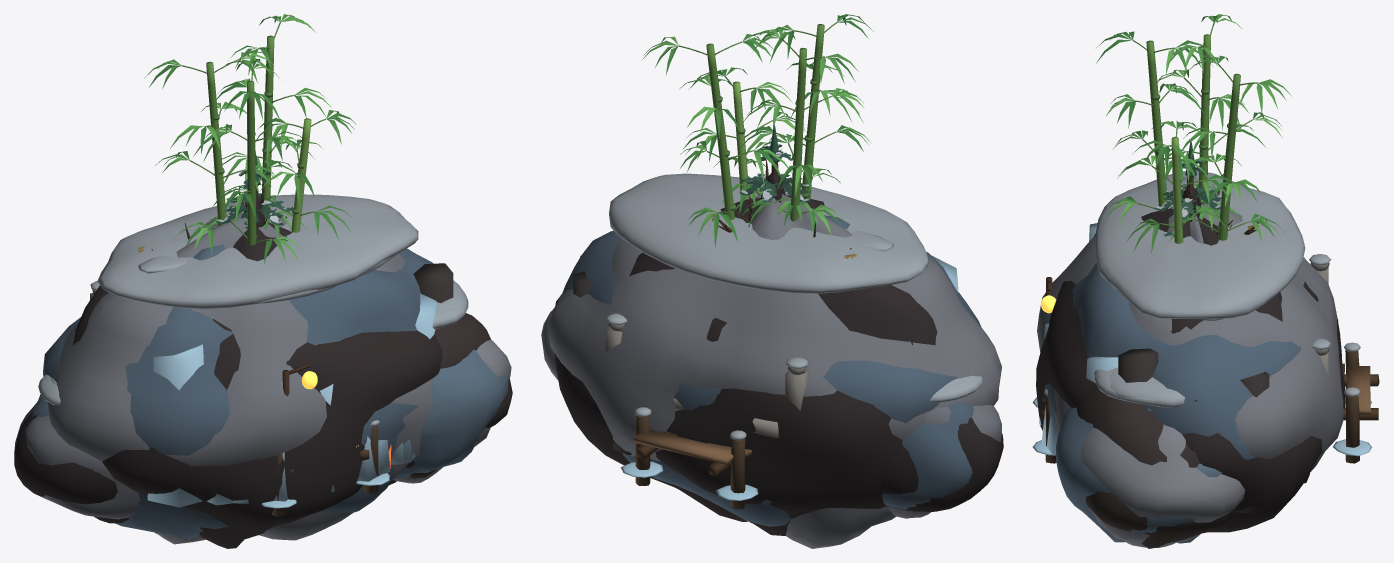
The model's file is props.glb.
3 renders of one model, left to right at view 1: azimuth 30°, elevation 25°; view 2: azimuth 150°, elevation 25°; view 3: azimuth 270°, elevation 25°, orthographic. The views are drawn at different scales.
Parts seen in each view (by area): view 1: snowcliff_fix_6f727a, lavacliff_fix_2e2829, icecliff_fix_4f6172, snowcliff_fix_959ea6, icecliff_fix_566a7b, lavacliff_fix_2a2425, snowcliff_fix_686b73, lavacliff_fix_352d2d, icecliff_fix_9cbed2, icecliff_fix_959ea6, bamboo_fix_5c8a43, bamboo_fix_5f8e45 (+9 smaller); view 2: snowcliff_fix_6f727a, lavacliff_fix_2e2829, snowcliff_fix_959ea6, icecliff_fix_4f6172, icecliff_fix_4a5c6c, lavacliff_fix_2a2425, pier_fix_775b42, pier_fix_4a3a2c, bamboo_fix_5e8c44, snowcliff_fix_686b73, bamboo_fix_5f8e45, bamboo_fix_5c8a43 (+6 smaller); view 3: snowcliff_fix_959ea6, snowcliff_fix_6f727a, icecliff_fix_4f6172, lavacliff_fix_2e2829, snowcliff_fix_787b83, lavacliff_fix_352d2d, icecliff_fix_566a7b, bamboo_fix_5e8c44, pier_fix_4a3a2c, bamboo_fix_5c8a43, lavacliff_fix_34302f, bamboo_fix_5f8e45 (+8 smaller).
Boxes of the visible parts, x1,y1,x2,y2 form: snowcliff_fix_6f727a: (47, 213, 432, 544); lavacliff_fix_2e2829: (73, 216, 442, 548); icecliff_fix_4f6172: (43, 244, 432, 539); snowcliff_fix_959ea6: (50, 194, 467, 385); icecliff_fix_566a7b: (395, 349, 508, 478); lavacliff_fix_2a2425: (14, 412, 128, 523); snowcliff_fix_686b73: (25, 394, 140, 519); lavacliff_fix_352d2d: (409, 313, 512, 478); icecliff_fix_9cbed2: (147, 344, 203, 507); icecliff_fix_959ea6: (38, 254, 468, 405); bamboo_fix_5c8a43: (247, 80, 256, 245); bamboo_fix_5f8e45: (206, 61, 226, 226); snowcliff_fix_6f727a: (547, 194, 1001, 548); lavacliff_fix_2e2829: (554, 195, 937, 535); snowcliff_fix_959ea6: (609, 173, 959, 387); icecliff_fix_4f6172: (562, 215, 981, 526); icecliff_fix_4a5c6c: (882, 402, 973, 509); lavacliff_fix_2a2425: (880, 417, 1003, 511); pier_fix_775b42: (633, 429, 733, 464); pier_fix_4a3a2c: (635, 415, 745, 509); bamboo_fix_5e8c44: (706, 43, 734, 219); snowcliff_fix_686b73: (888, 405, 1001, 518); bamboo_fix_5f8e45: (790, 47, 806, 221); bamboo_fix_5c8a43: (802, 24, 824, 200); snowcliff_fix_959ea6: (1094, 170, 1305, 407); snowcliff_fix_6f727a: (1037, 204, 1343, 472); icecliff_fix_4f6172: (1044, 233, 1339, 543); lavacliff_fix_2e2829: (1036, 208, 1345, 533); snowcliff_fix_787b83: (1080, 424, 1245, 547); lavacliff_fix_352d2d: (1076, 385, 1235, 548); icecliff_fix_566a7b: (1056, 407, 1221, 542); bamboo_fix_5e8c44: (1218, 73, 1240, 240); pier_fix_4a3a2c: (1045, 350, 1359, 463); bamboo_fix_5c8a43: (1146, 40, 1167, 211); lavacliff_fix_34302f: (1118, 348, 1309, 483); bamboo_fix_5f8e45: (1198, 34, 1210, 204).
Bounding box in the file's own units: 8.09 × 8.02 × 5.38.
